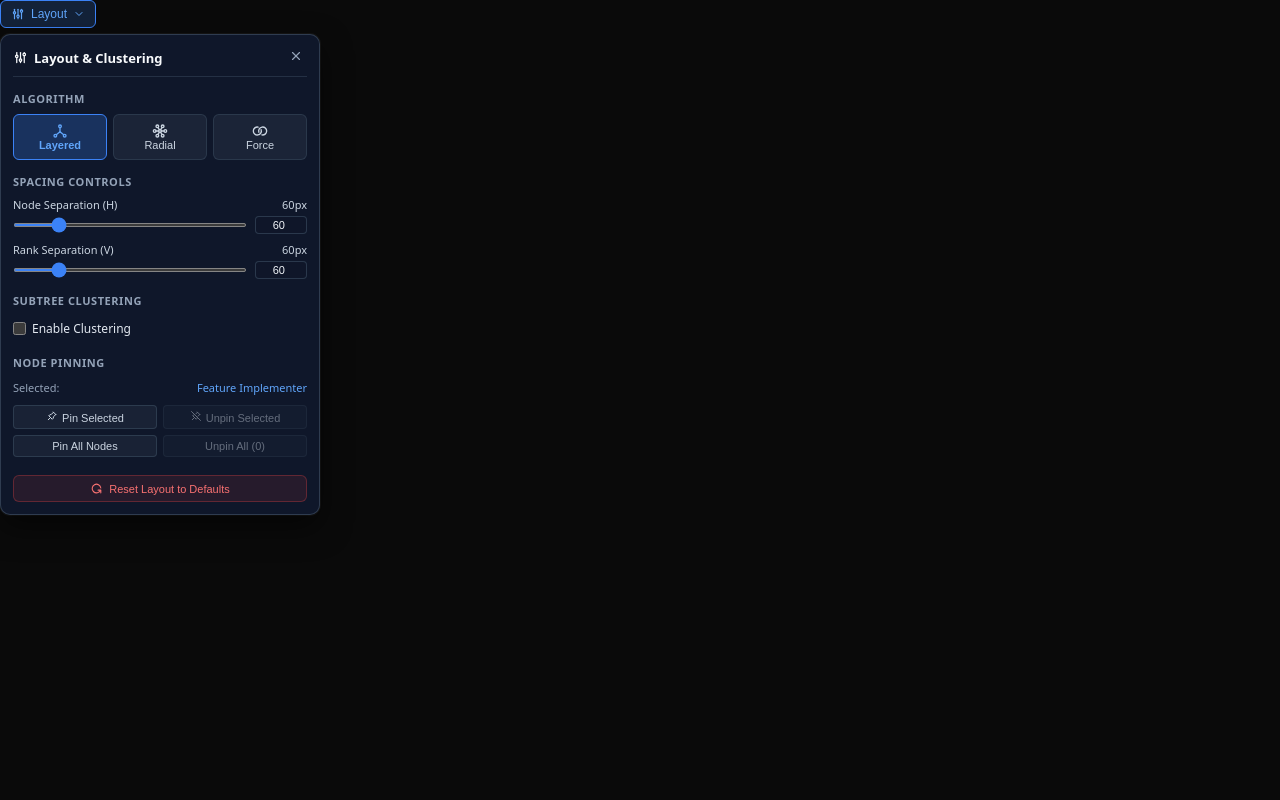
Test: LayoutMenu Component › handles pinning and unpinning node positions
Check: the button with test id "btn-unpin-selected" is disabled, box x1=163 y1=405 x2=307 y2=429
What coordinates should you click on to do the following:
click the button with test id "btn-pin-selected"
I would click on:
 (85, 417)
Its box is x1=13 y1=405 x2=157 y2=429.
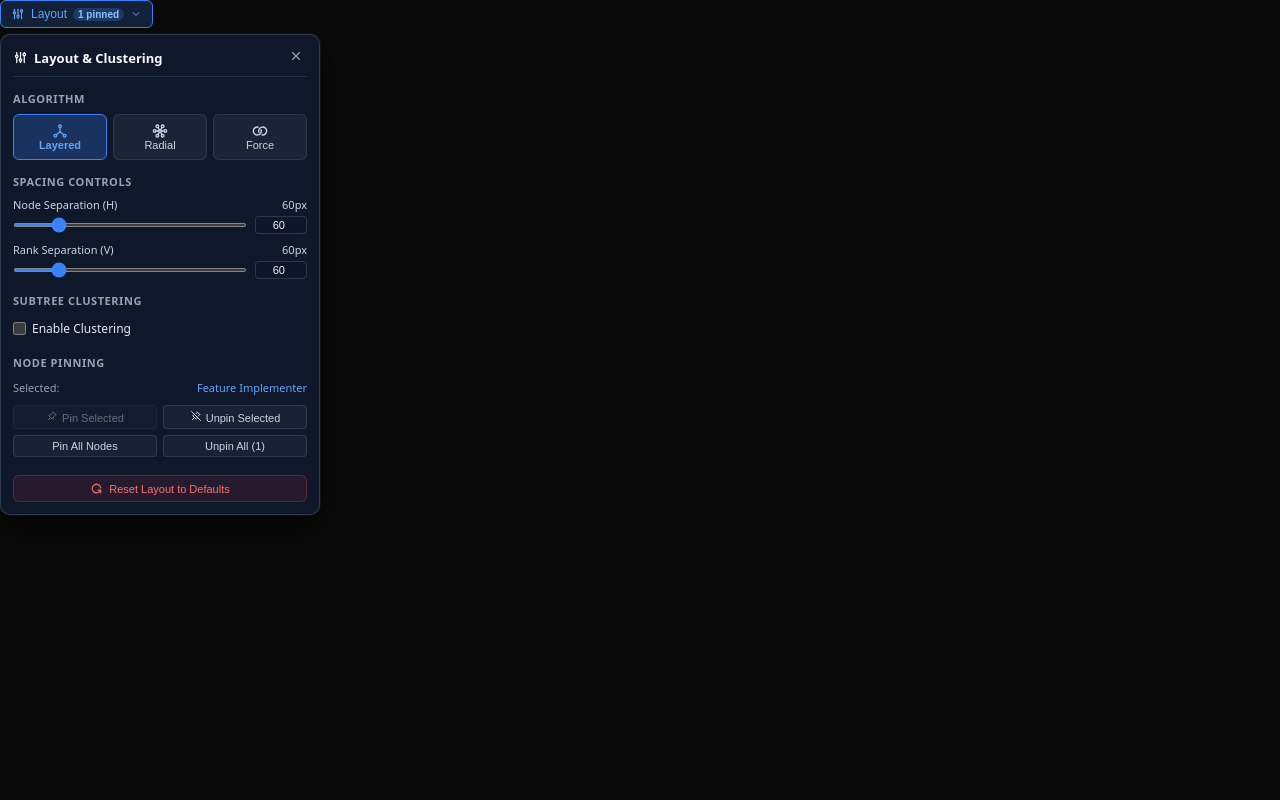
Check: the button with test id "btn-unpin-selected" is enabled
What coordinates should you click on to do the following:
click the button with test id "btn-unpin-selected"
I would click on:
 (235, 417)
Its box is x1=163 y1=405 x2=307 y2=429.
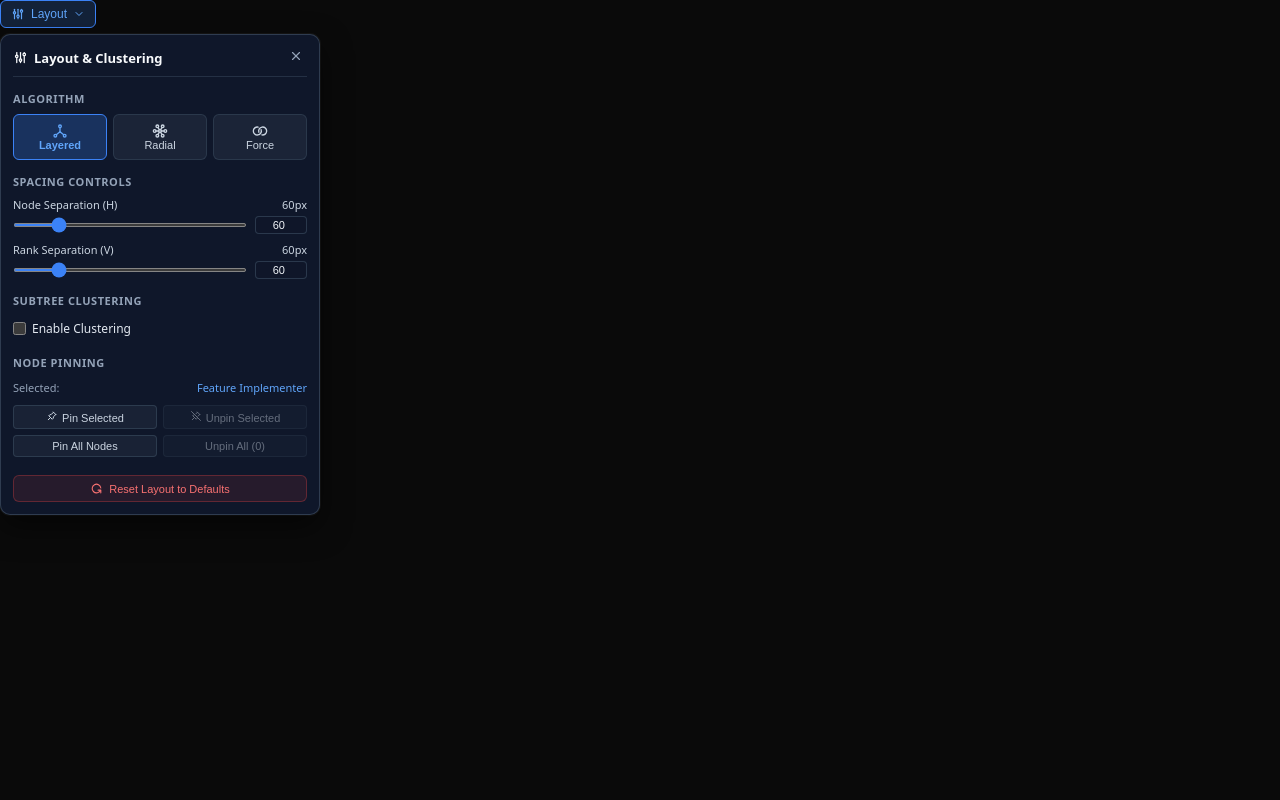
What coordinates should you click on to do the following:
click the button with test id "btn-pin-all"
I would click on:
 (85, 446)
Its box is x1=13 y1=435 x2=157 y2=457.
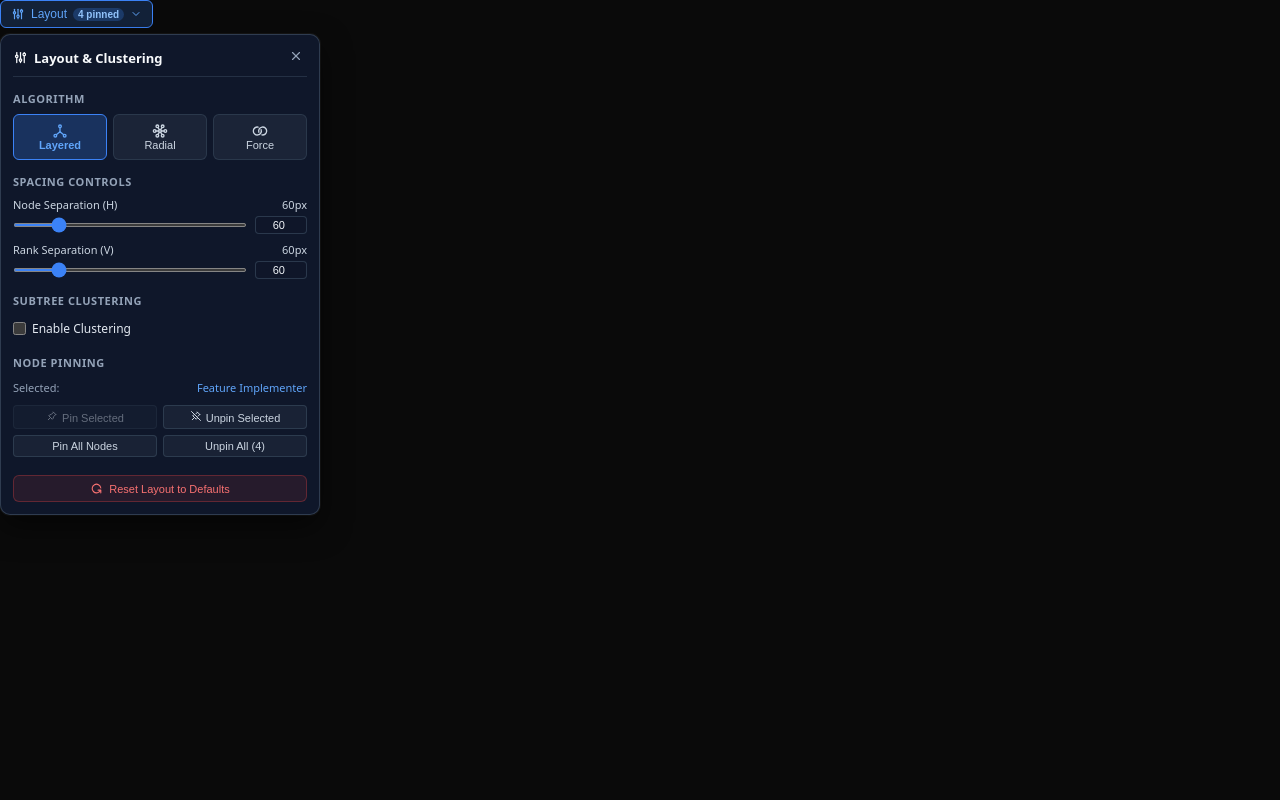
What coordinates should you click on to do the following:
click the button with test id "btn-unpin-all"
I would click on:
 (235, 446)
Its box is x1=163 y1=435 x2=307 y2=457.
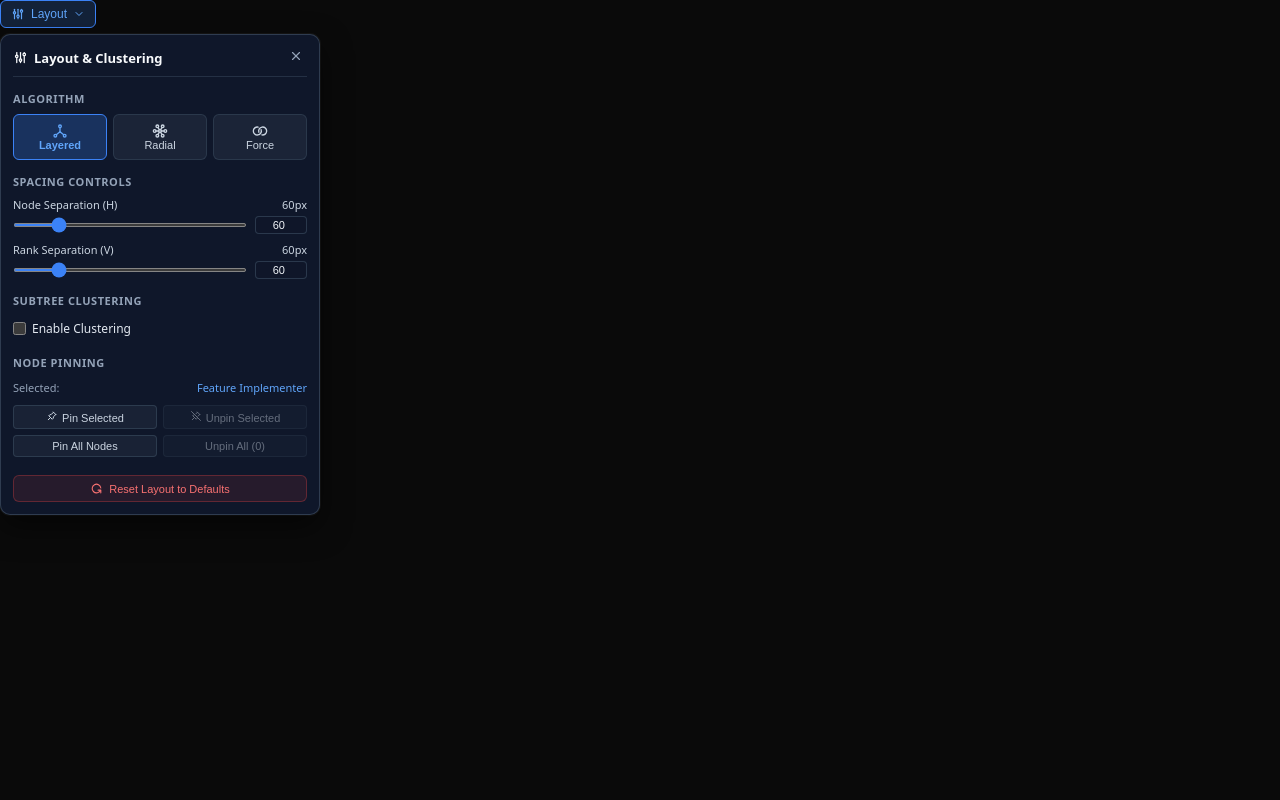
Check: no elements with test id "pinned-count-badge" are shown
